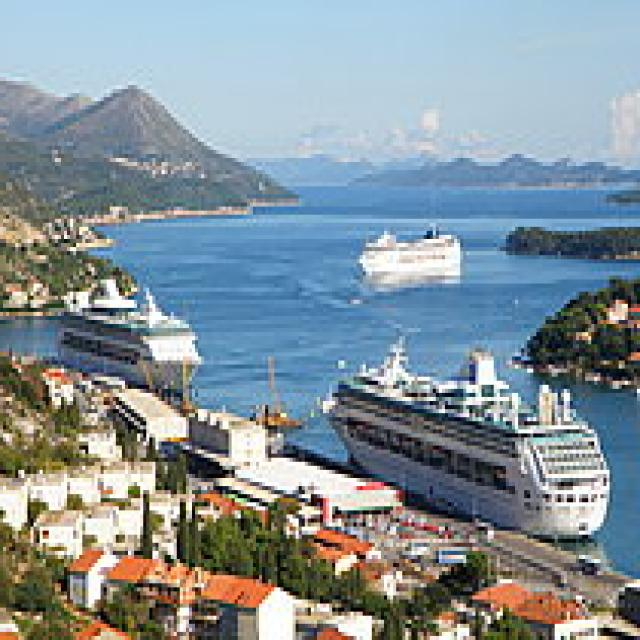Cruise: (317, 324, 616, 543), (58, 267, 210, 393), (360, 210, 469, 284)
